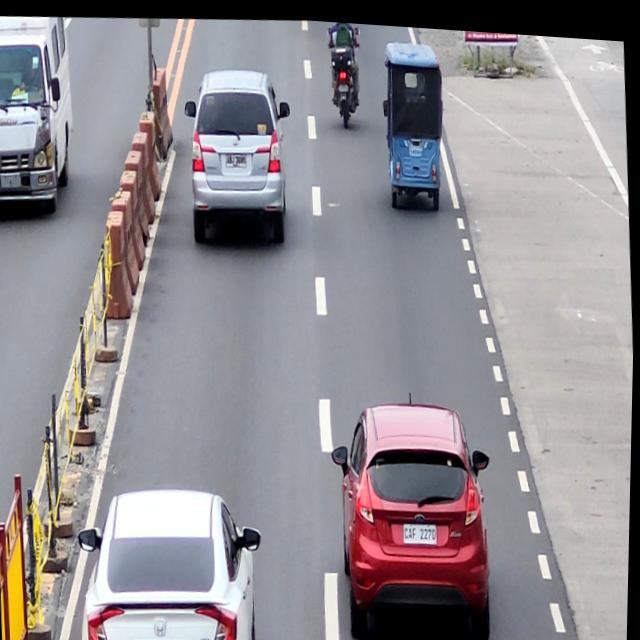Car: (326, 389, 502, 640), (77, 476, 271, 640), (180, 60, 297, 247)
E-bike: (377, 26, 451, 209)
License-Plate: (404, 514, 441, 540), (224, 148, 248, 166), (337, 77, 348, 88)
Motorcycle: (326, 18, 365, 127)
